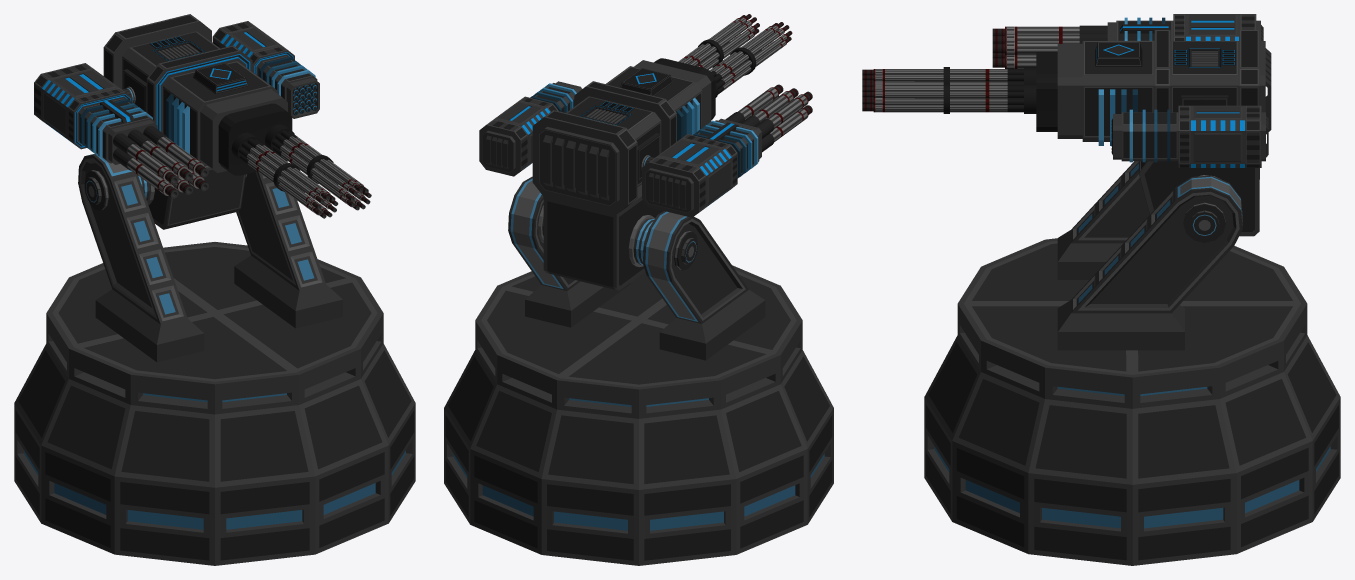
Rendered from MGT2.FBX.
3 views of the same model, side by side, from view 1: azimuth 30°, elevation 25°; view 2: azimuth 150°, elevation 25°; view 3: azimuth 270°, elevation 25° (orthographic). The views are drawn at different scales.
Parts seen in each view (by area): view 1: PTMG002, MGT003, NTMG002, GGT005, Object001; view 2: PTMG002, MGT003, NTMG002, GGT005, Object001; view 3: PTMG002, MGT003, NTMG002, Object001, GGT005.
Part boxes in pixels (x1,y1,x2,y2): PTMG002: (14, 242, 415, 565); MGT003: (103, 14, 371, 229); NTMG002: (78, 153, 342, 362); GGT005: (34, 63, 208, 198); Object001: (212, 21, 319, 118); PTMG002: (444, 265, 833, 565); MGT003: (532, 14, 792, 290); NTMG002: (508, 176, 765, 360); GGT005: (641, 84, 812, 217); Object001: (479, 81, 581, 176); PTMG002: (924, 238, 1340, 565); MGT003: (862, 30, 1271, 236); NTMG002: (1057, 161, 1242, 350); Object001: (1111, 105, 1268, 167); GGT005: (992, 14, 1263, 68).
Bounding box in the file's own units: 782 × 888 × 898.
